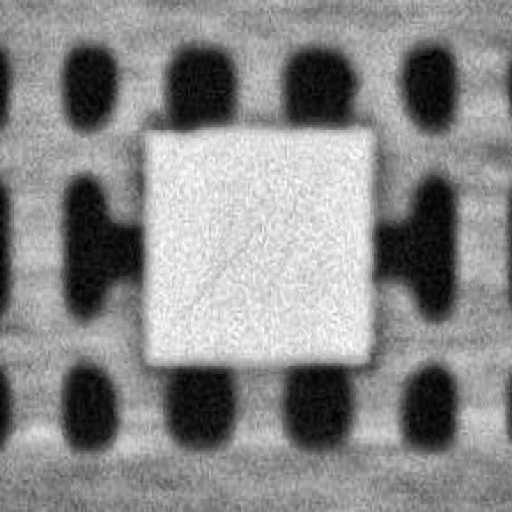DIE_CRACK: (238, 136, 408, 225)
